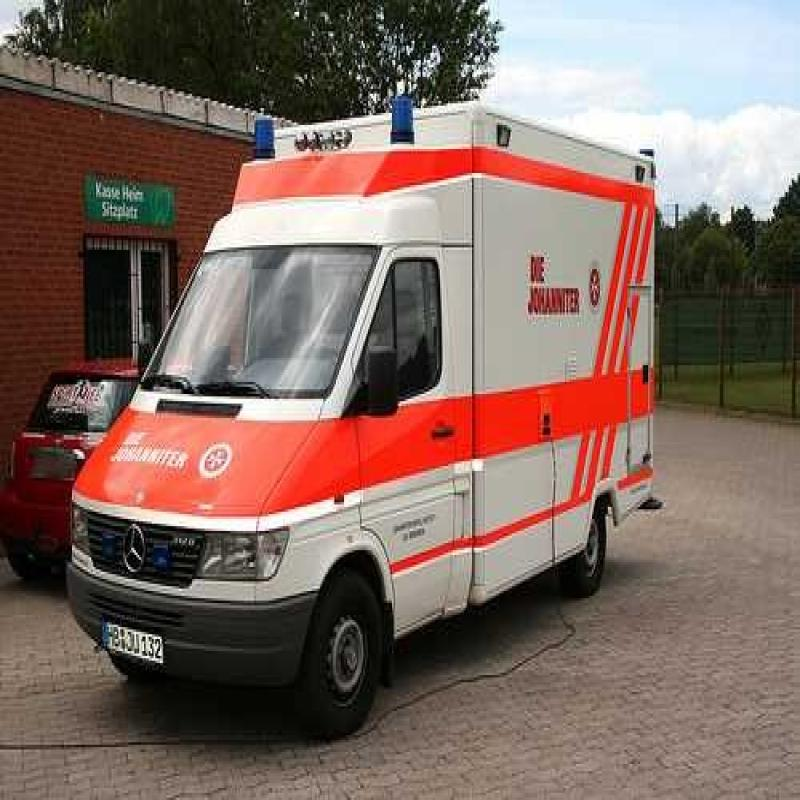AmbulanceSiren: (370, 84, 425, 148), (242, 95, 283, 166)
